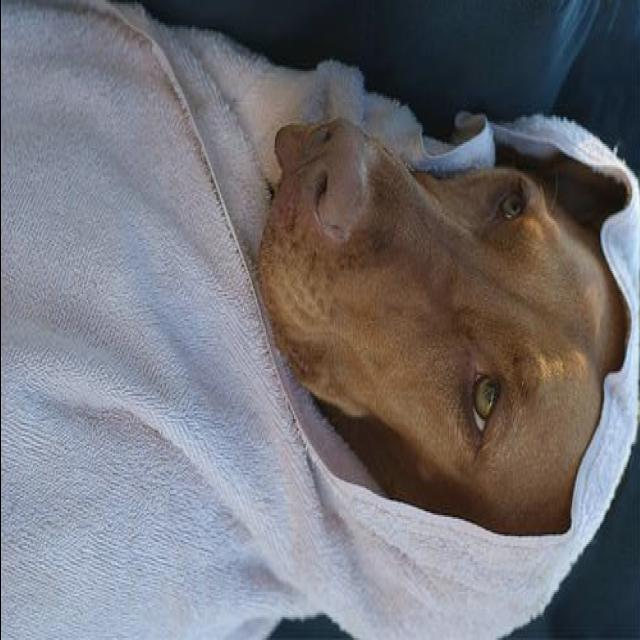vizsla: (3, 4, 638, 640)
